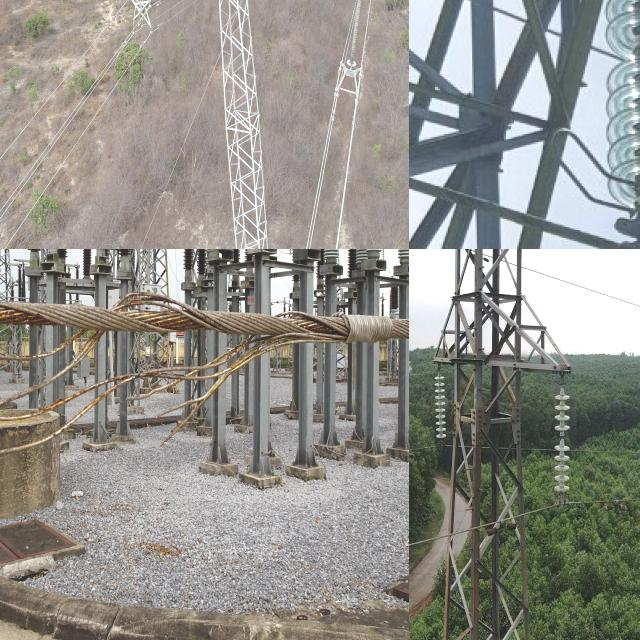杆塔: (135, 0, 409, 249), (421, 249, 581, 640), (409, 0, 625, 249)
正常绝缘子: (595, 0, 640, 249), (547, 378, 579, 506), (337, 0, 371, 94), (432, 358, 451, 452)
电缆破损: (0, 280, 399, 463)
绝缘子破损: (627, 40, 640, 56), (558, 432, 566, 442)
